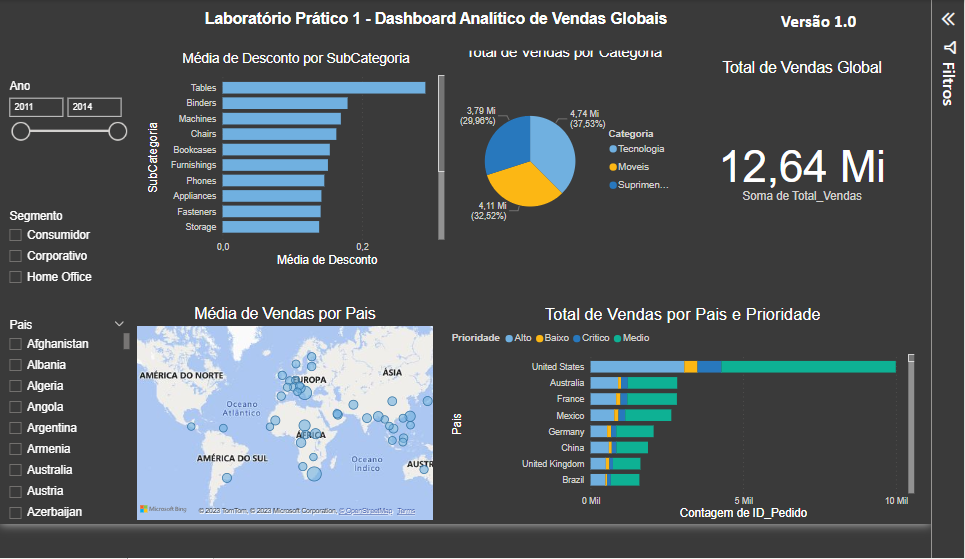

Layout of this report page (visuals, bound fields, positions):
{"tool":"powerbi","page":{"name":"Página 1","canvas":[1280,720],"ordinal":0},"visuals":[{"type":"card","title":"Total de Vendas Global","fields":{"Values":["Sum(dataset.Total_Vendas)"]},"box":[939,81.1,327.2,279.1],"z":0},{"type":"pieChart","title":"Total de Vendas por Categoria","fields":{"Category":["dataset.Categoria"],"Y":["Sum(dataset.Total_Vendas)"]},"box":[615.7,60.4,318.7,300.3],"z":1},{"type":"clusteredBarChart","title":"Média de Desconto por SubCategoria","fields":{"Category":["dataset.SubCategoria"],"Y":["Avg(dataset.Desconto)"]},"box":[198,70.5,417.7,300.3],"z":2},{"type":"barChart","title":"Total de Vendas por Pais e Prioridade","fields":{"Series":["dataset.Prioridade"],"Category":["dataset.Pais"],"Y":["CountNonNull(dataset.ID_Pedido)"]},"box":[615.7,419.4,645.9,300.3],"z":3},{"type":"map","title":"Média de Vendas por Pais","fields":{"Category":["dataset.Pais"],"Size":["Avg(dataset.Total_Vendas)"]},"box":[182.9,419.4,417.7,300.3],"z":4},{"type":"slicer","fields":{"Values":["dataset.Pais"]},"box":[0,432.8,182.9,286.9],"z":5},{"type":"slicer","fields":{"Values":["dataset.Segmento"]},"box":[0,283.5,182.9,149.3],"z":6},{"type":"slicer","fields":{"Values":["dataset.Data_Pedido.Variation.Hierarquia de datas.Ano"]},"box":[0,104,182.9,151],"z":7},{"type":"textbox","box":[100.4,9.6,998.2,60.5],"z":8},{"type":"textbox","box":[962.4,9.6,220,60.5],"z":9}]}

Visuals, with their boxes on the page's 1280x720 design canvas (x1, y1, x2, y2). These are canvas units, not pixel positions in the 965x559 screenshot, which may show the page scaled, cropped or inside an application window:
"Total de Vendas Global" card: left=939, top=81, right=1266, bottom=360
"Total de Vendas por Categoria" pieChart: left=616, top=60, right=934, bottom=361
"Média de Desconto por SubCategoria" clusteredBarChart: left=198, top=70, right=616, bottom=371
"Total de Vendas por Pais e Prioridade" barChart: left=616, top=419, right=1262, bottom=720
"Média de Vendas por Pais" map: left=183, top=419, right=601, bottom=720
slicer - dataset.Pais: left=0, top=433, right=183, bottom=720
slicer - dataset.Segmento: left=0, top=284, right=183, bottom=433
slicer - dataset.Data_Pedido.Variation.Hierarquia de datas.Ano: left=0, top=104, right=183, bottom=255
textbox: left=100, top=10, right=1099, bottom=70
textbox: left=962, top=10, right=1182, bottom=70
